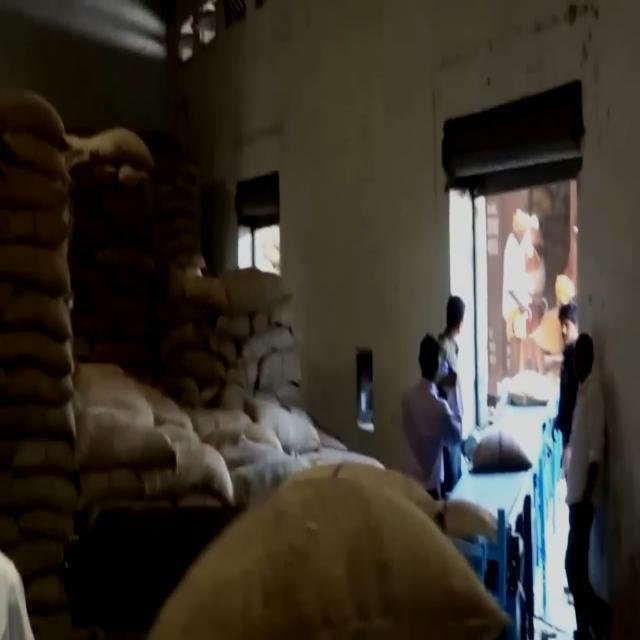gunny_bag: (148, 473, 510, 640), (72, 409, 174, 469), (0, 85, 72, 156), (432, 493, 516, 549), (0, 121, 67, 187), (0, 244, 75, 302), (0, 285, 77, 341), (0, 469, 77, 516), (76, 128, 158, 172), (0, 162, 75, 210), (0, 365, 75, 413), (0, 400, 77, 445), (0, 432, 77, 476), (222, 265, 294, 312), (0, 202, 69, 250), (0, 332, 73, 376), (472, 428, 538, 474), (0, 532, 65, 570)
